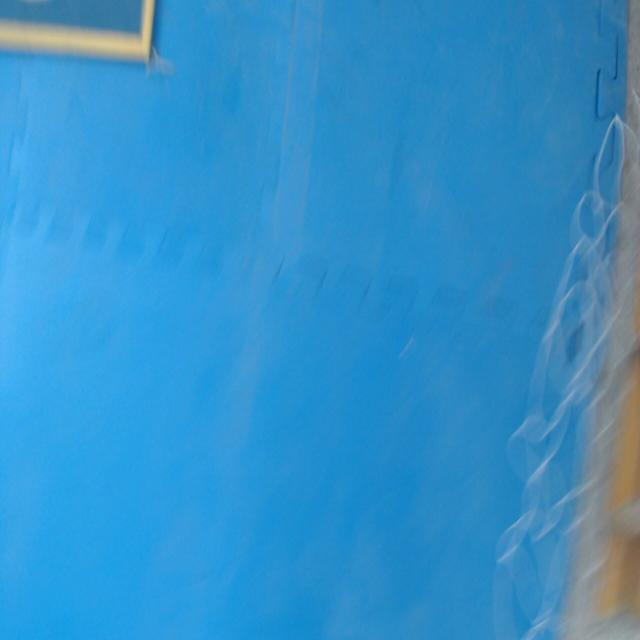base_pouso: (0, 0, 155, 61)
